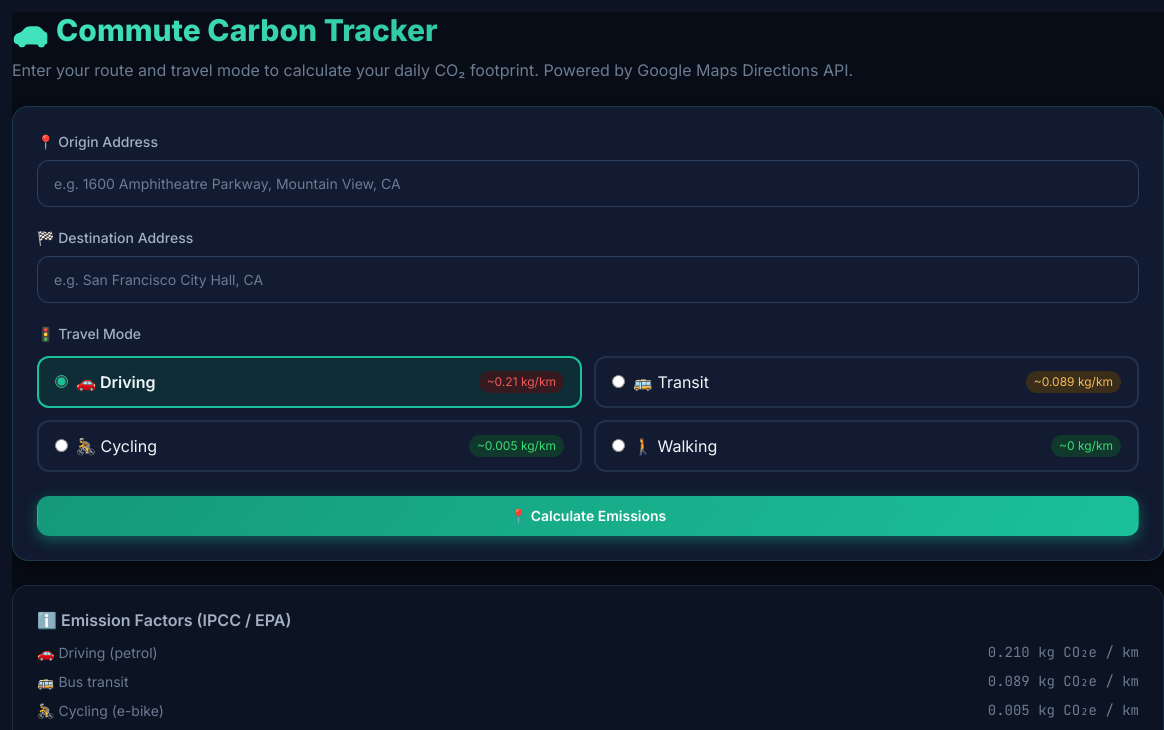
CommutePage › shows validation error when fields are empty and form submitted
Click the button "📍 Calculate Emissions".
click(588, 516)  # box [37,496,1139,536]
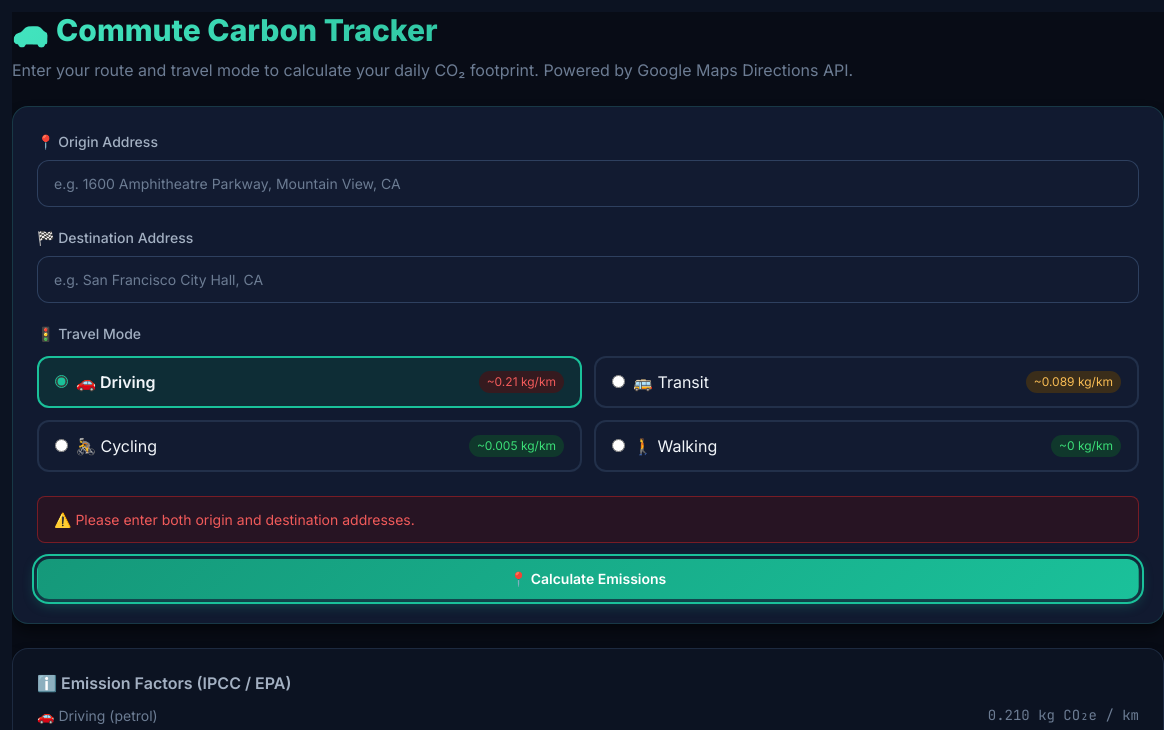
Expected: the message shows "enter both origin and destination", [75,510,415,528]
